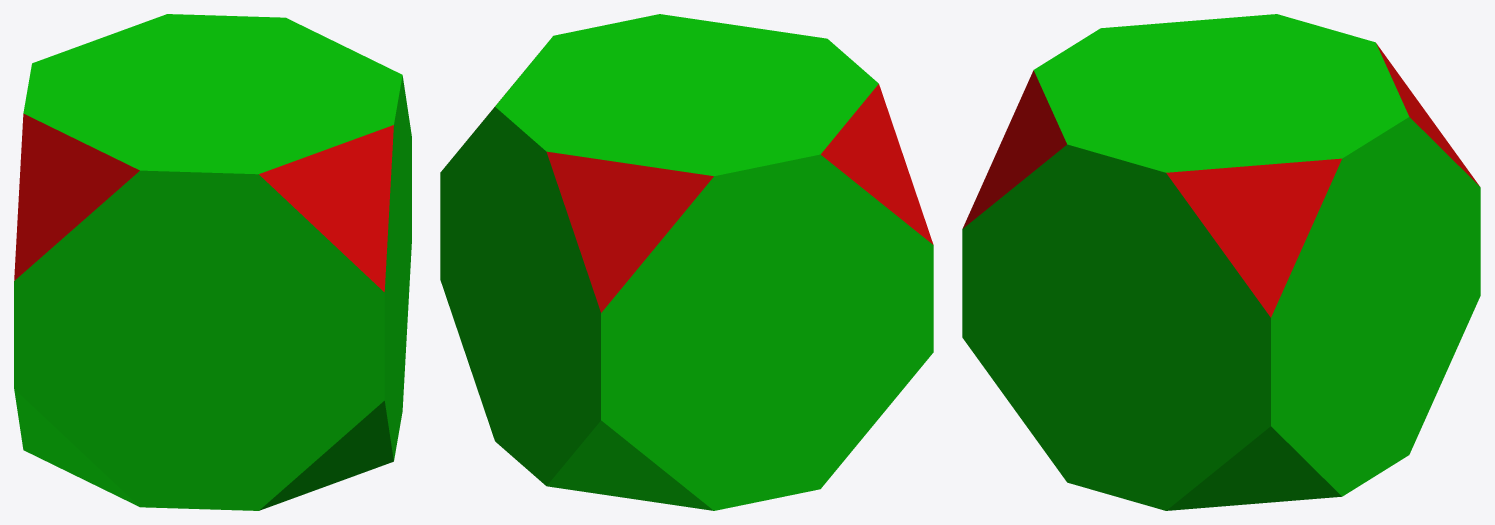
Rendered from anim_cube_000052.obj.
The picture shows the model from 3 angles, left to right: view 1: azimuth 30°, elevation 25°; view 2: azimuth 150°, elevation 25°; view 3: azimuth 270°, elevation 25°; orthographic projection.
Visible parts, largest first — view 1: Cube_Cube.002_Material.002, Cube_Cube.002_Material.001; view 2: Cube_Cube.002_Material.002, Cube_Cube.002_Material.001; view 3: Cube_Cube.002_Material.002, Cube_Cube.002_Material.001.
Boxes of the visible parts, box(x1,y1,x2,y2) form: Cube_Cube.002_Material.002: box(14, 14, 411, 510); Cube_Cube.002_Material.001: box(14, 113, 393, 291); Cube_Cube.002_Material.002: box(440, 14, 933, 510); Cube_Cube.002_Material.001: box(475, 76, 933, 312); Cube_Cube.002_Material.002: box(962, 14, 1480, 510); Cube_Cube.002_Material.001: box(962, 43, 1479, 317).
Bounding box in the file's own units: 4.3 × 3.09 × 4.3.
